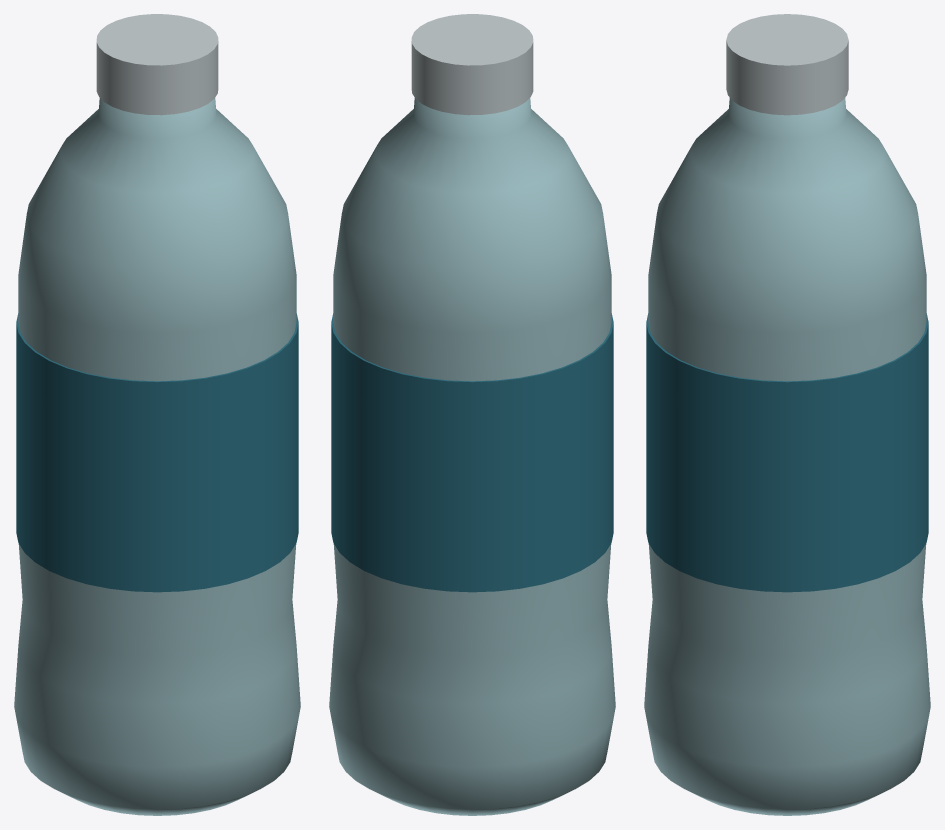
Rendered from water.glb.
The picture shows the model from 3 angles, left to right: view 1: azimuth 30°, elevation 25°; view 2: azimuth 150°, elevation 25°; view 3: azimuth 270°, elevation 25°; orthographic projection.
Parts seen in each view (by area): view 1: water; view 2: water; view 3: water.
Part boxes in pixels (x1,y1,x2,y2): water: [14, 14, 300, 815]; water: [329, 14, 615, 815]; water: [644, 14, 930, 815].
Bounding box in the file's own units: 0.068 × 0.1915 × 0.068.
